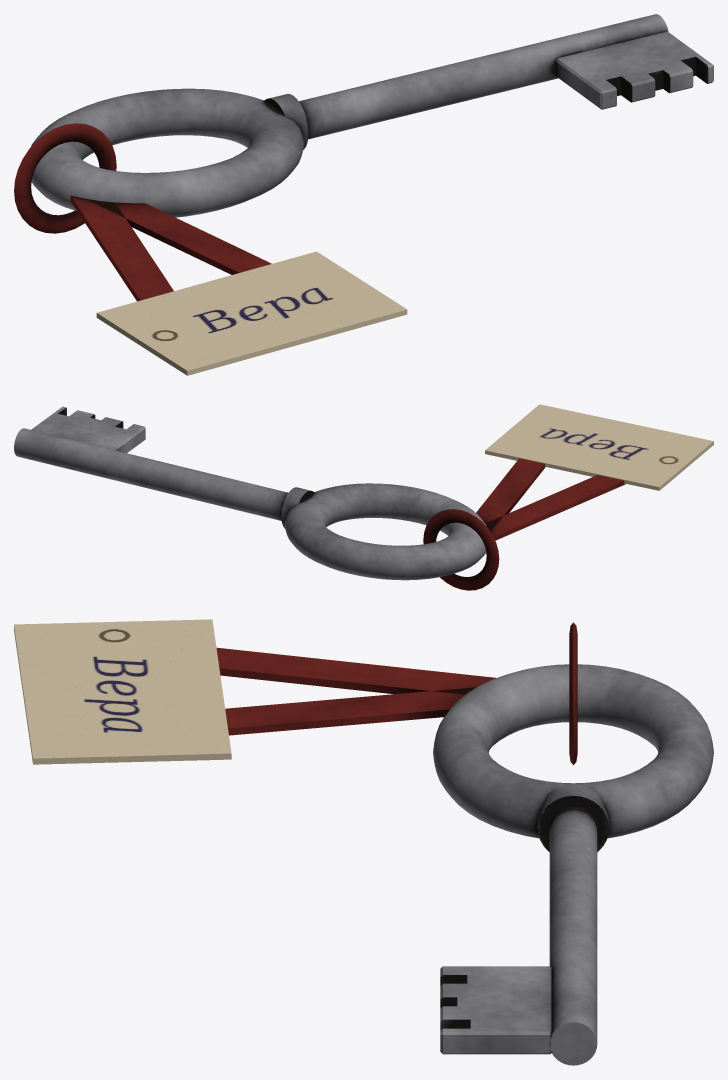
File: key_vera.glb
The picture shows the model from 3 angles, top to bottom: view 1: azimuth 30°, elevation 25°; view 2: azimuth 150°, elevation 25°; view 3: azimuth 270°, elevation 25°; orthographic projection. The views are drawn at different scales.
Visible parts, largest first — view 1: KeyVera, Tag, Ribbon; view 2: KeyVera, Tag, Ribbon; view 3: KeyVera, Tag, Ribbon.
Boxes of the visible parts, x1,y1,x2,y2 form: KeyVera: (31, 14, 713, 217); Tag: (96, 251, 407, 375); Ribbon: (14, 123, 271, 301); KeyVera: (14, 406, 486, 580); Tag: (485, 404, 713, 490); Ribbon: (423, 458, 625, 590); KeyVera: (433, 664, 713, 1065); Tag: (14, 619, 231, 764); Ribbon: (216, 622, 577, 764).
Size of the model in its own units: 0.0749 by 0.0108 by 0.0528.
Materials: 3 (3 with a texture image).
